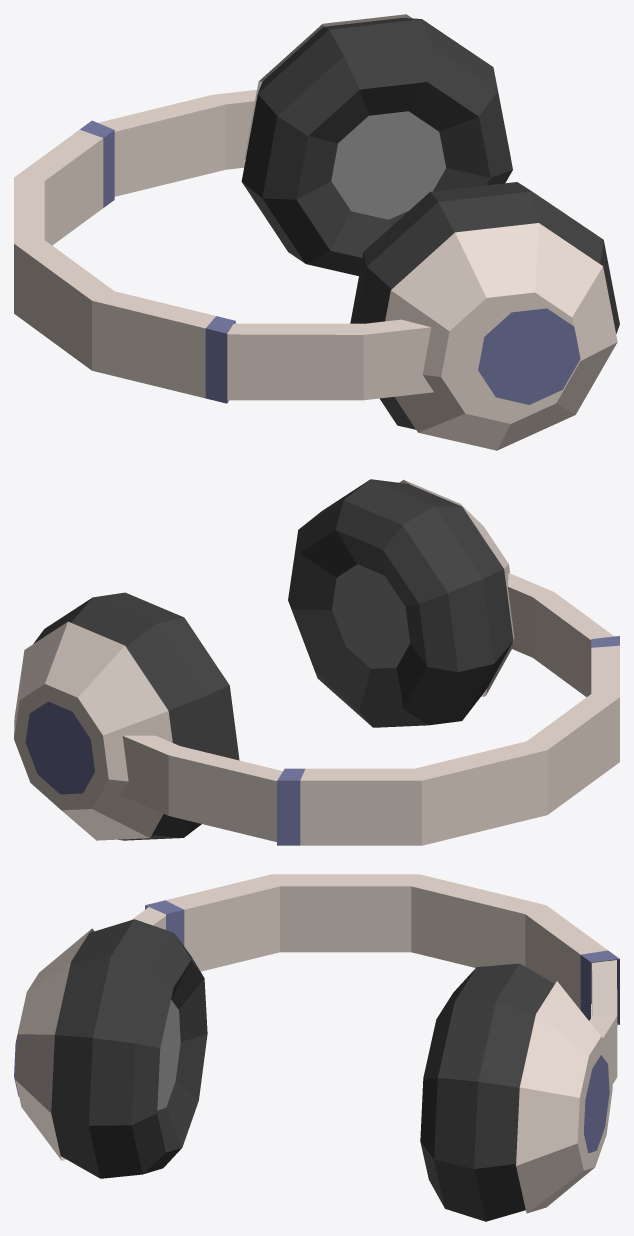
File: Headphones_1.fbx
3 renders of one model, top to bottom at view 1: azimuth 30°, elevation 25°; view 2: azimuth 150°, elevation 25°; view 3: azimuth 270°, elevation 25°, orthographic. The views are drawn at different scales.
Visible parts, largest first — view 1: Headphones_1; view 2: Headphones_1; view 3: Headphones_1.
Part boxes in pixels (x1=…): Headphones_1: x1=14, y1=14, x2=619, y2=450; Headphones_1: x1=14, y1=479, x2=619, y2=845; Headphones_1: x1=14, y1=874, x2=619, y2=1221.
Size of the model in its own units: 19.04 by 20.23 by 8.63.
